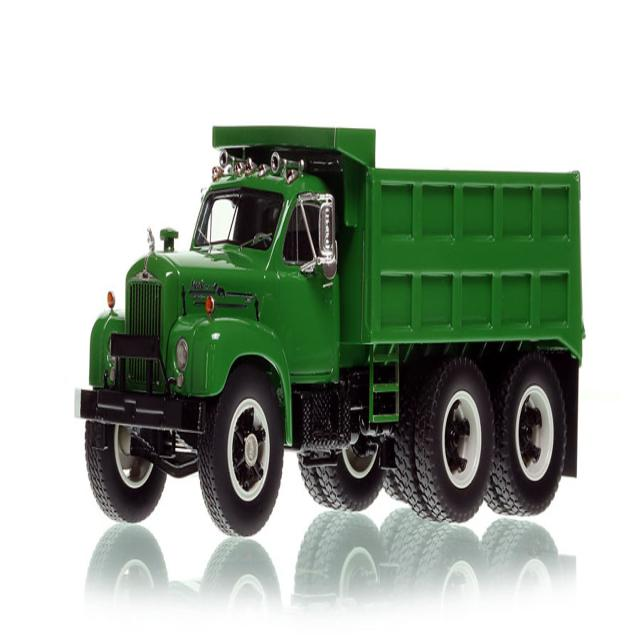dump_truck: (82, 103, 588, 556)
